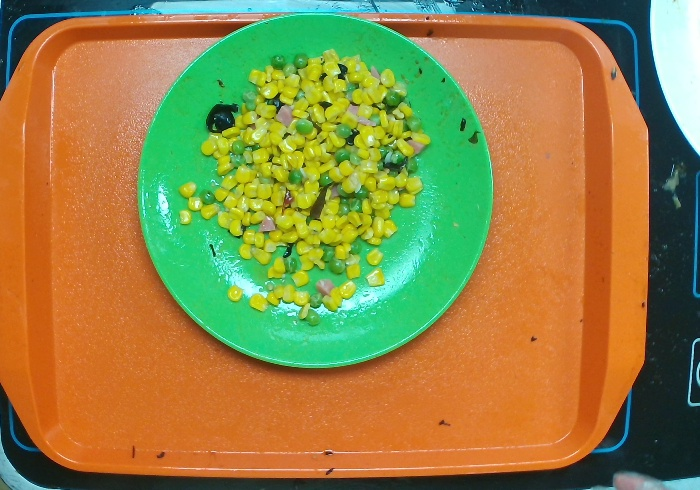HZYJPL-Lv_Se_Yuan_Pan: (134, 11, 496, 369)
